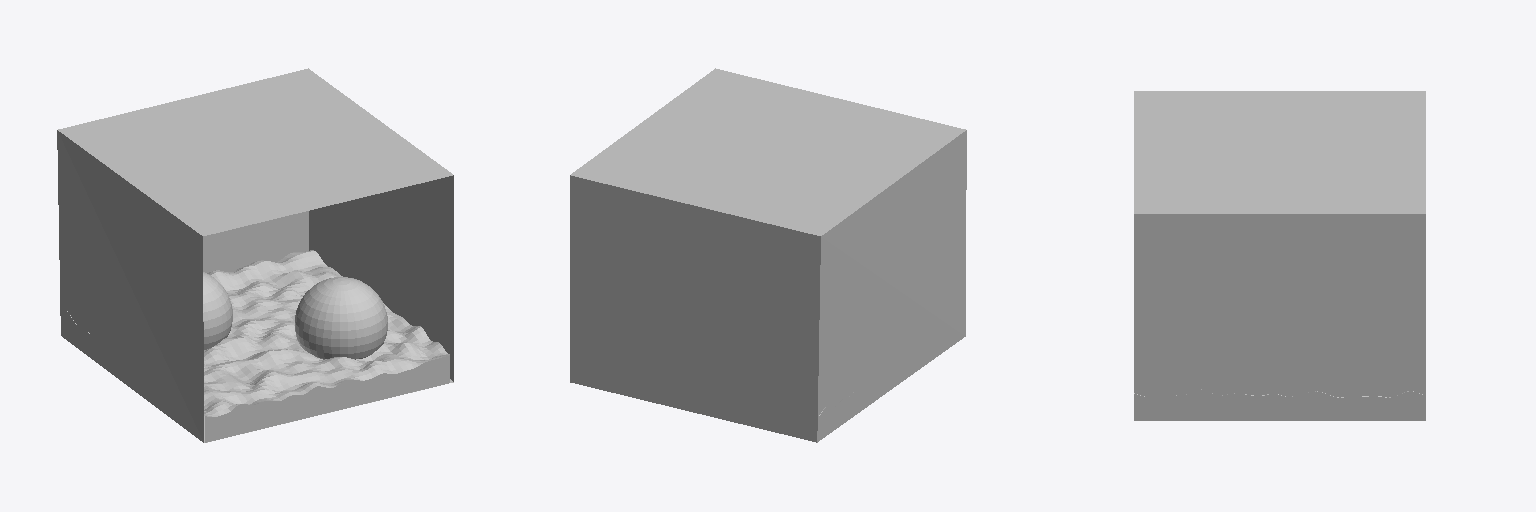
The model's file is cornell.obj.
3 views of the same model, side by side, from view 1: azimuth 30°, elevation 25°; view 2: azimuth 150°, elevation 25°; view 3: azimuth 270°, elevation 25° (orthographic).
Parts seen in each view (by area): view 1: CornellBox-Water; view 2: CornellBox-Water; view 3: CornellBox-Water.
Part boxes in pixels (x1,y1,x2,y2): CornellBox-Water: (57, 68, 453, 442); CornellBox-Water: (570, 68, 966, 442); CornellBox-Water: (1134, 91, 1425, 420).
Size of the model in its own units: 3.01 by 2.37 by 3.02.